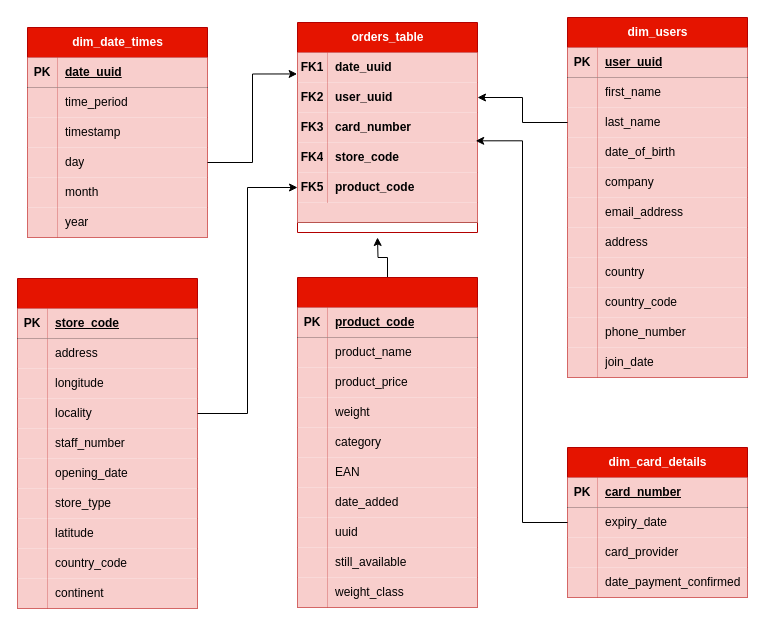
The diagram is 765 pixels wide and 626 high, and some of its shapes have lost their labels. The shapes that lost their labels are listed below. From the top down, each one's box as (x1, y1, x2, y2) in pixels, then its label:
(16, 278, 198, 608): dim_store_details
(296, 276, 478, 608): dim_products
